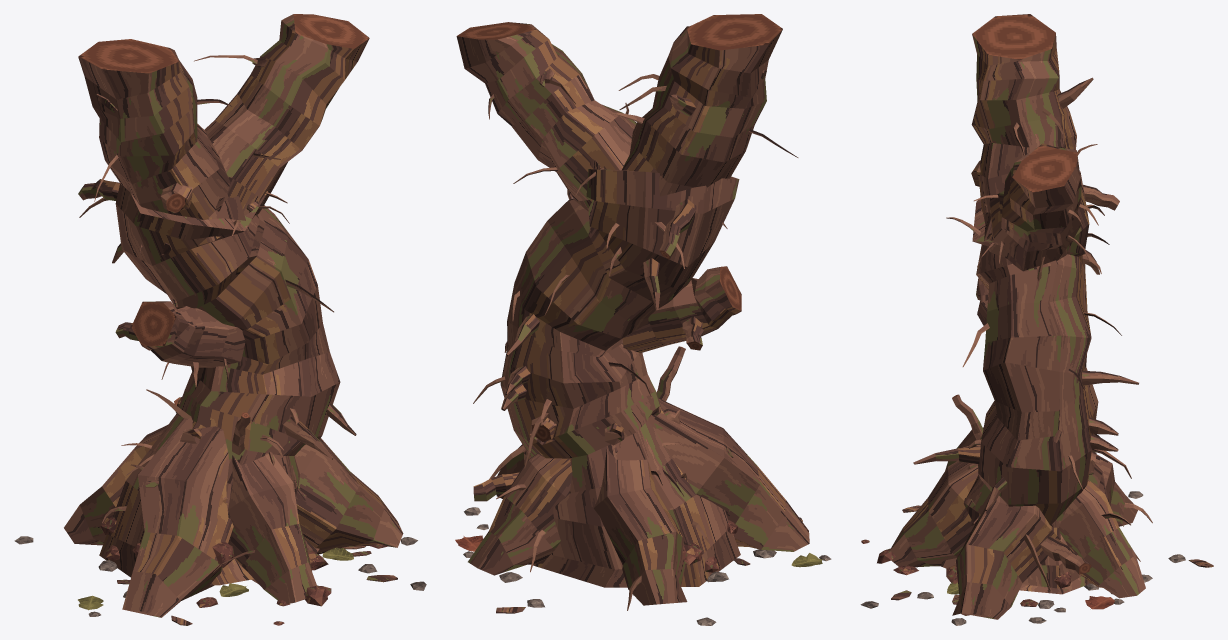
Rendered from SM_AN11_RootPillar.fbx.
The picture shows the model from 3 angles, left to right: view 1: azimuth 30°, elevation 25°; view 2: azimuth 150°, elevation 25°; view 3: azimuth 270°, elevation 25°; orthographic projection. The views are drawn at different scales.
Parts seen in each view (by area): view 1: AN11a_Root, AN11a_Props; view 2: AN11a_Root, AN11a_Props; view 3: AN11a_Root, AN11a_Props.
Part boxes in pixels (<box>): AN11a_Root: <box>64,14,403,617</box>; AN11a_Props: <box>14,14,426,625</box>; AN11a_Root: <box>456,22,809,610</box>; AN11a_Props: <box>455,14,831,625</box>; AN11a_Root: <box>890,33,1152,619</box>; AN11a_Props: <box>860,14,1213,625</box>.
Size of the model in its own units: 3.24 by 5.02 by 3.36.
